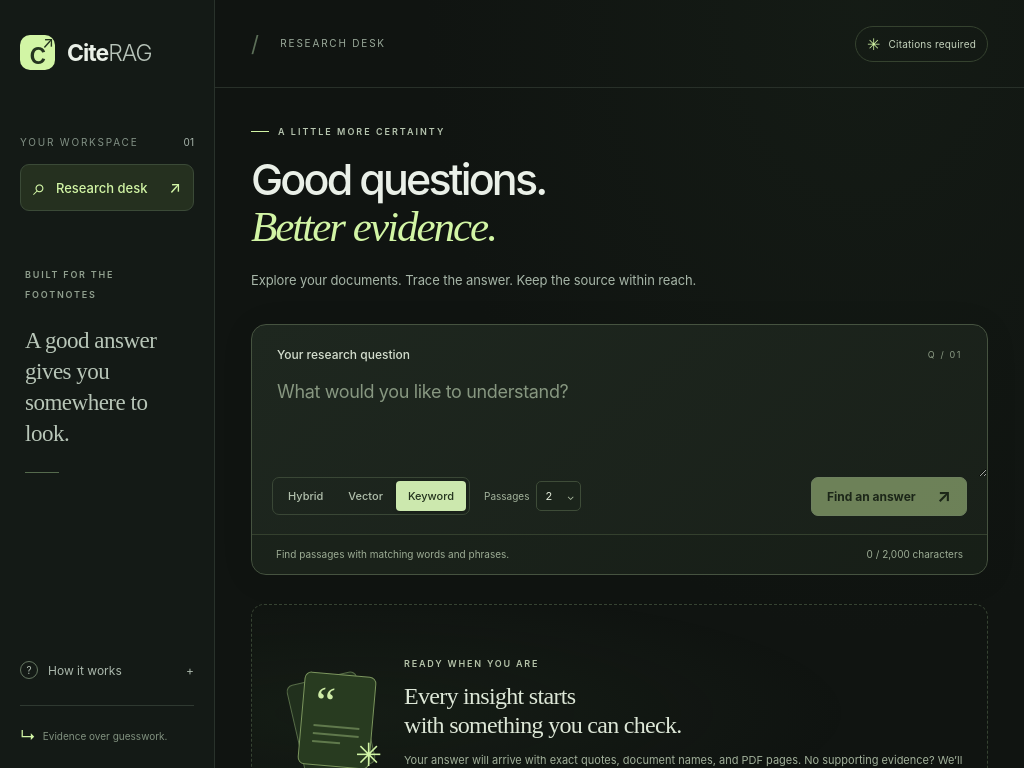
research workspace › uses backend defaults and sends changed strategy and k
Expected: the text box labelled "Your research question" is enabled, [252, 362, 987, 477]
Expected: the dropdown shows "2", [536, 481, 582, 511]
Click the button "Vector". click: (366, 496)
box: [336, 481, 395, 511]
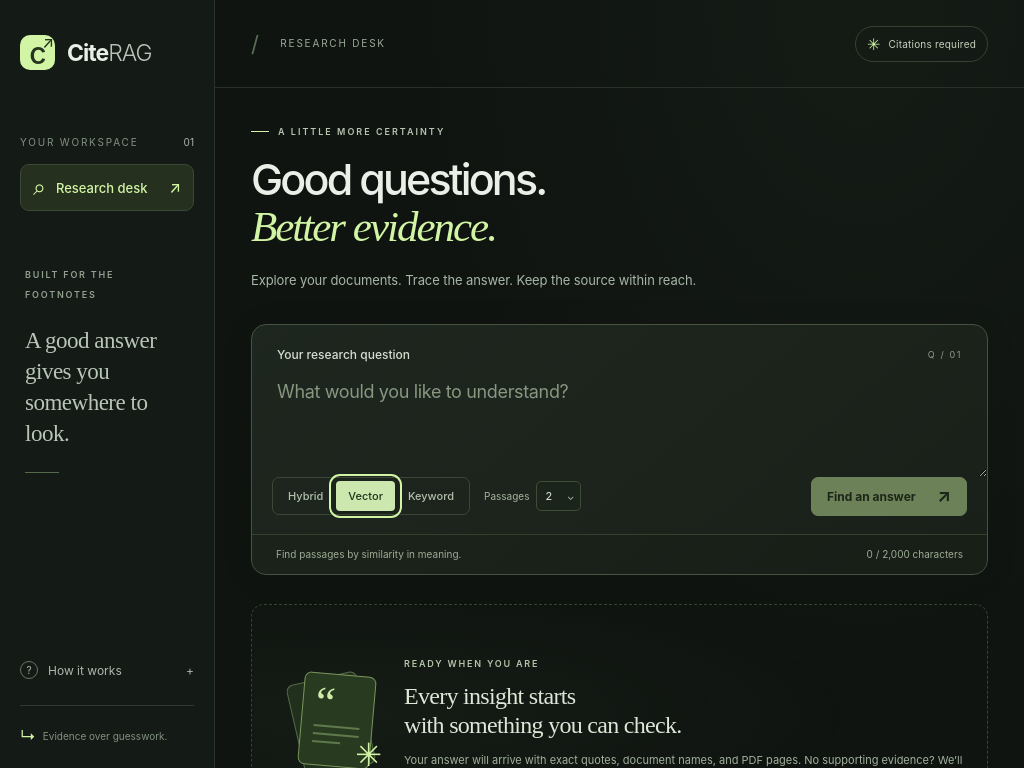
Select "7" in the dropdown. click: (559, 496)
box: [536, 481, 582, 511]
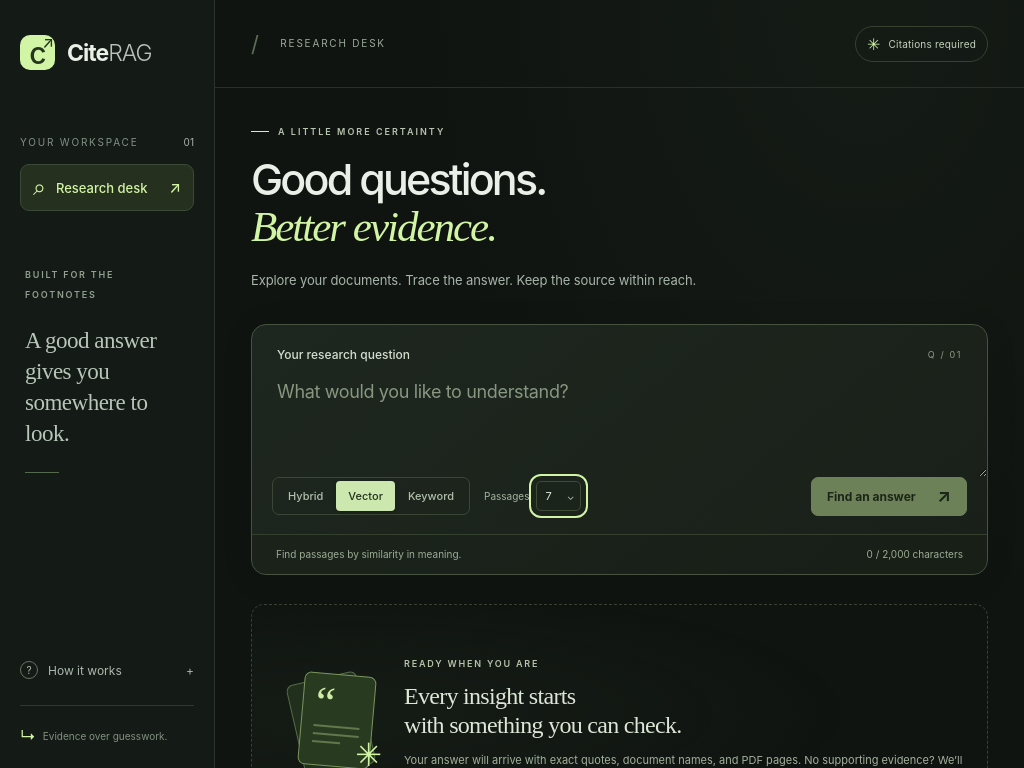
Type "A synthetic question" into the text box labelled "Your research question". click: (620, 420)
box: [252, 362, 987, 477]
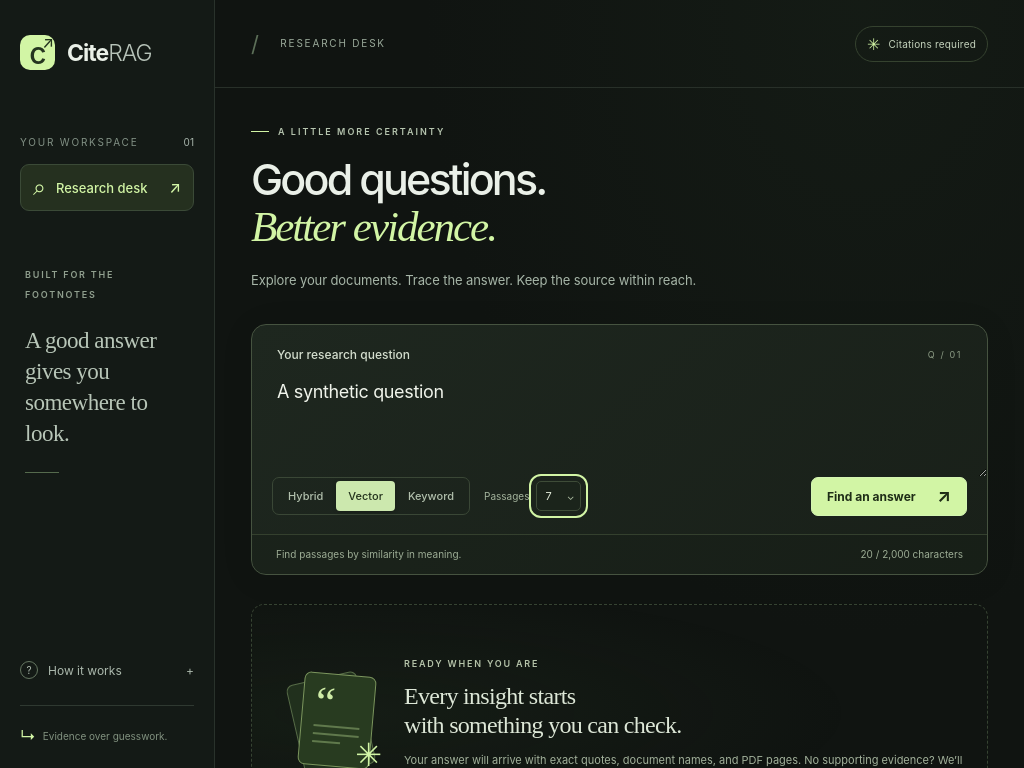
Click the button "Find an answer ↗". click: (889, 496)
box: [811, 477, 967, 516]
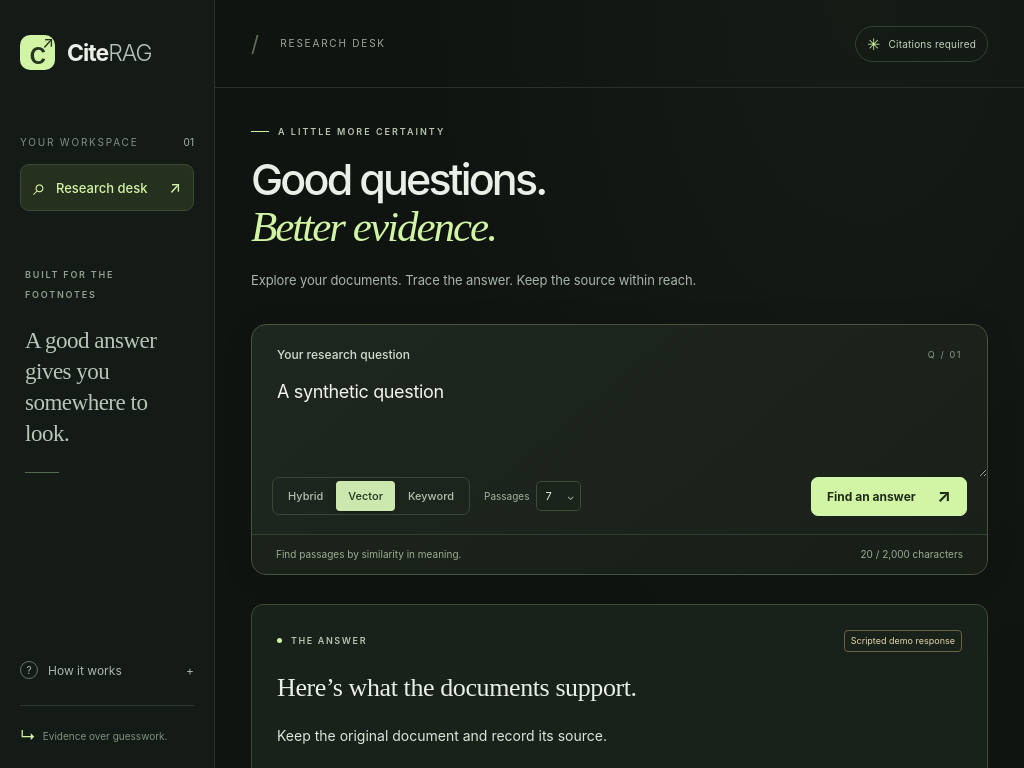
Now the text "Keep the original document and record its source." is shown, box [277, 727, 607, 744]
